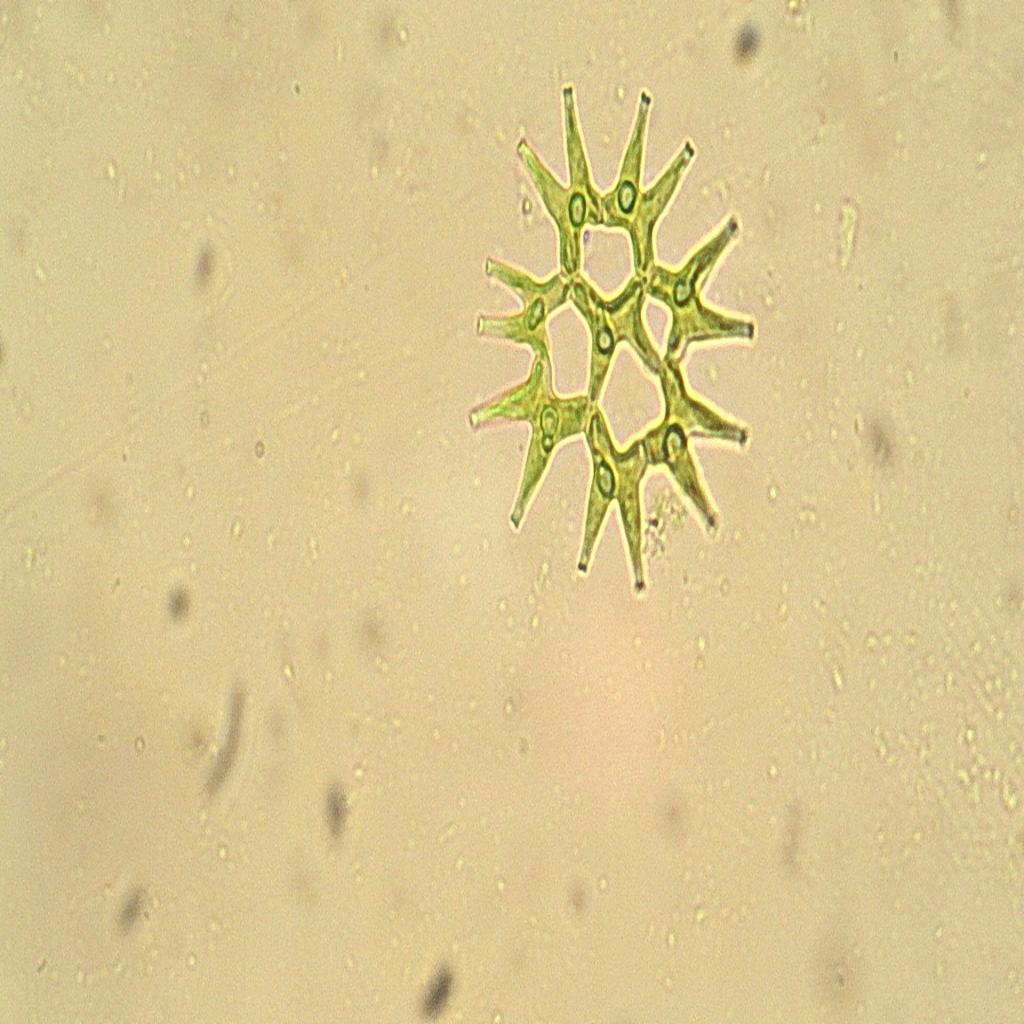Pediastrum_CTH: (462, 52, 776, 614)
